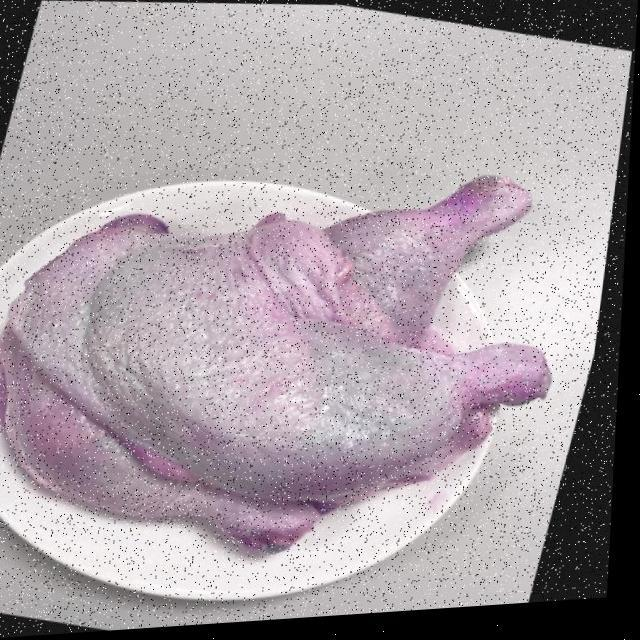quater: (45, 230, 552, 568), (115, 182, 543, 366)
